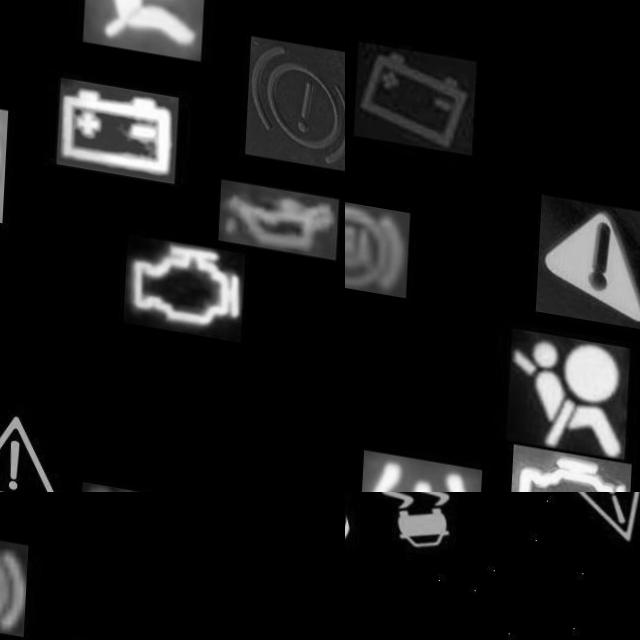Central Warning lamp: (538, 179, 640, 311), (0, 385, 81, 492)
Engine cooling system: (85, 473, 207, 492)
